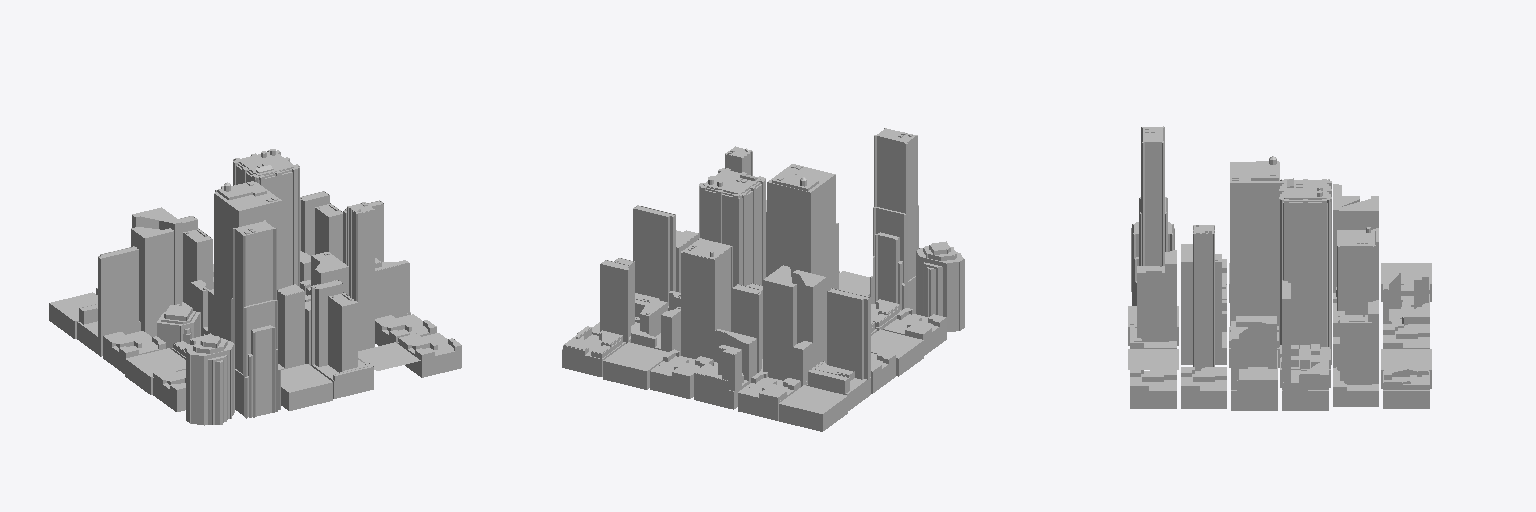
3 renders of one model, left to right at view 1: azimuth 30°, elevation 25°; view 2: azimuth 150°, elevation 25°; view 3: azimuth 270°, elevation 25°, orthographic.
Parts seen in each view (by area): view 1: Mograph_City_Rig; view 2: Mograph_City_Rig; view 3: Mograph_City_Rig.
Boxes of the visible parts, x1,y1,x2,y2 form: Mograph_City_Rig: [49, 149, 461, 425]; Mograph_City_Rig: [562, 128, 964, 431]; Mograph_City_Rig: [1128, 126, 1431, 410].
Bounding box in the file's own units: 2985 × 1979 × 3000.